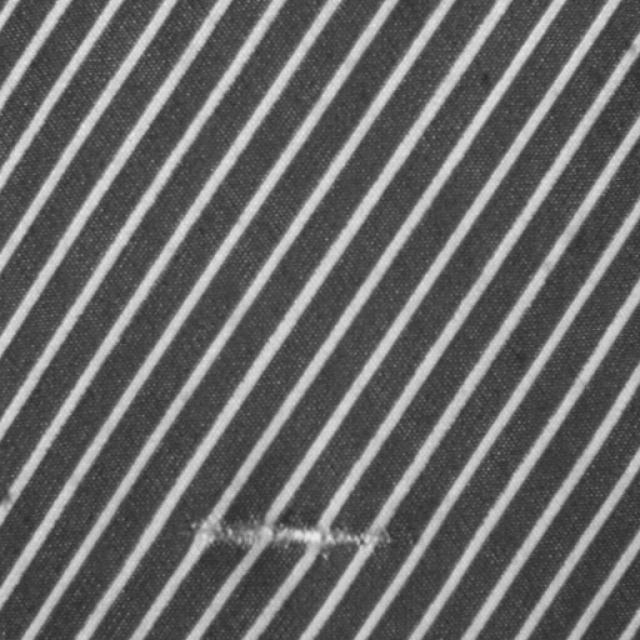Hole-Defect: (189, 518, 394, 558)
